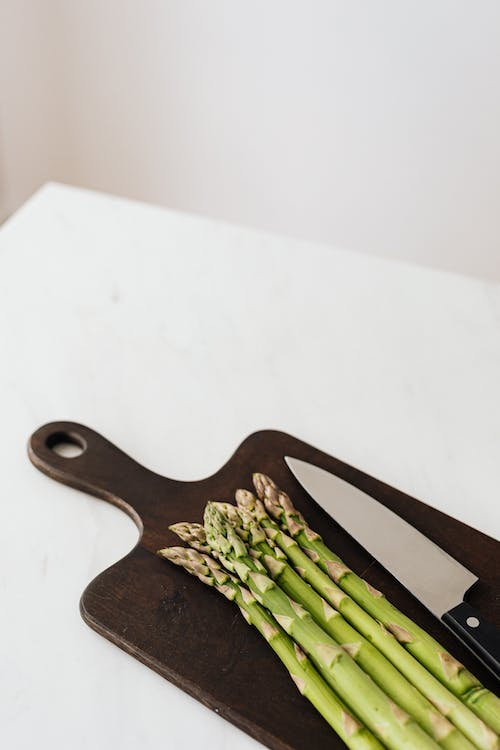knife: (281, 452, 500, 685)
